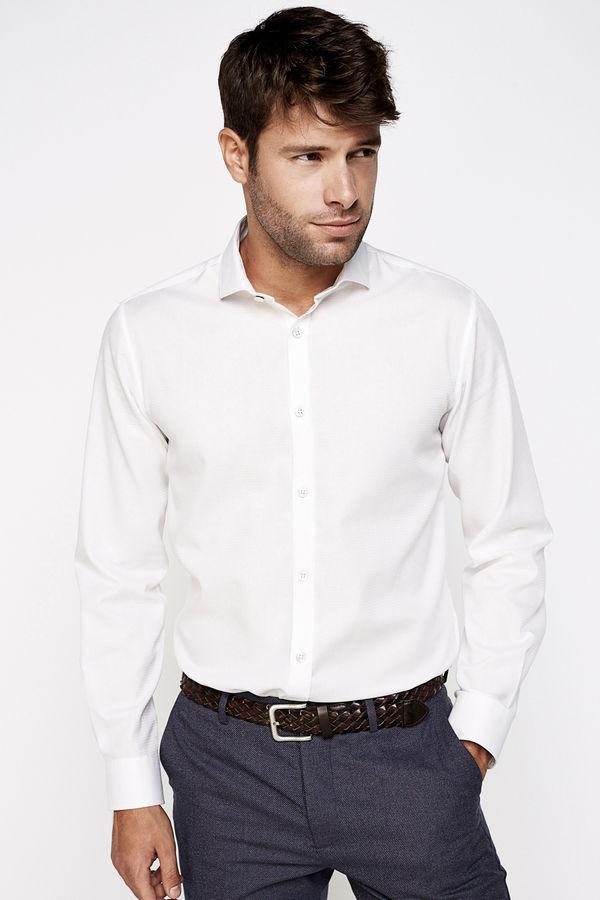teeshirt: (75, 210, 552, 825)
